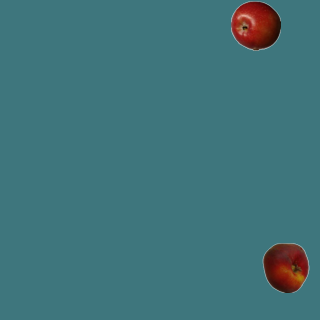Apple Braeburn: (230, 0, 280, 50)
Nectarine Flat: (260, 242, 310, 292)
